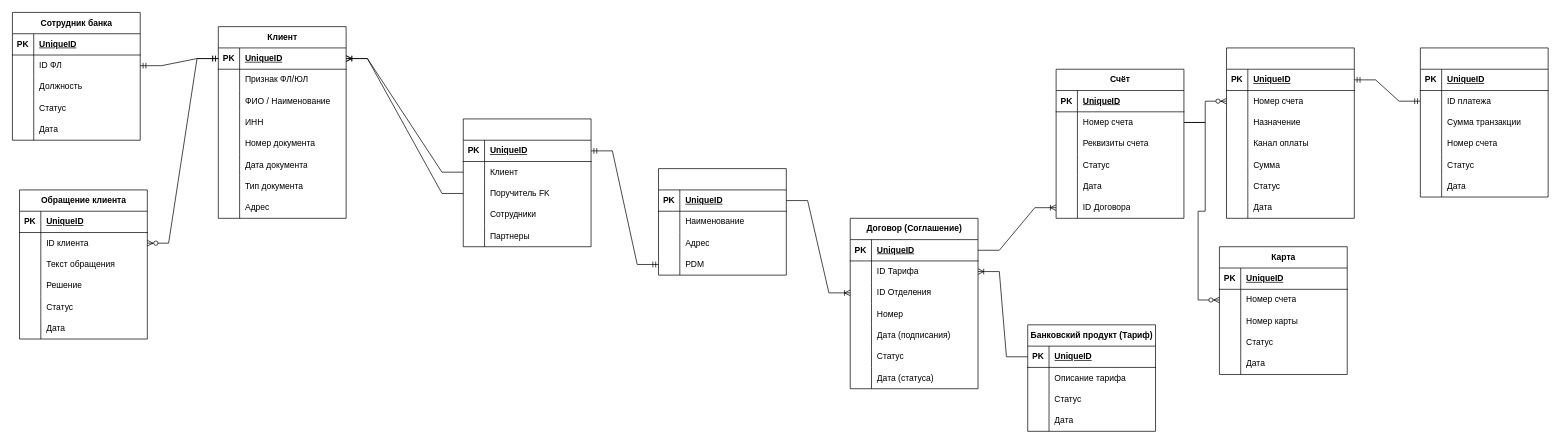
The diagram is 1561 pixels wide and 444 high, and some of its shapes have lost their labels. Here are the shapes that lost their labels. From the top down, the box of each, then its label:
(1226, 47, 1354, 218): Платёж (Бизнес-операция)
(1420, 47, 1548, 197): Транзакция (Проводка в АБС)
(463, 118, 591, 247): Party Data Management
(658, 168, 786, 275): Отделение
